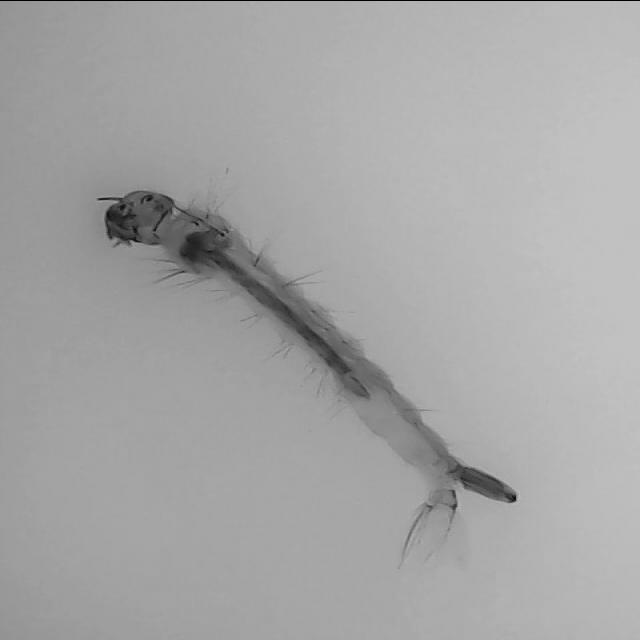larvas: (105, 190, 513, 527)
